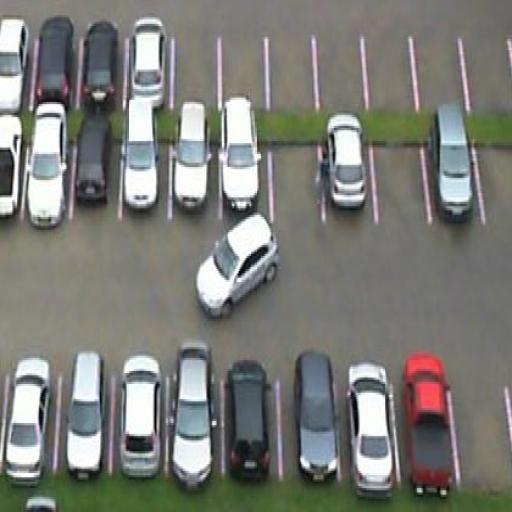car: (195, 212, 282, 326), (401, 352, 457, 501), (170, 340, 218, 492), (294, 347, 341, 490), (347, 360, 395, 499), (4, 356, 54, 484), (224, 358, 274, 486), (63, 349, 111, 482), (117, 354, 163, 484), (429, 102, 474, 223), (26, 102, 68, 230), (219, 95, 261, 217), (171, 100, 213, 215), (122, 96, 162, 210), (325, 110, 367, 212), (74, 110, 114, 212), (33, 17, 74, 113), (128, 15, 167, 115), (80, 20, 120, 117), (0, 15, 32, 113), (0, 108, 24, 223)
